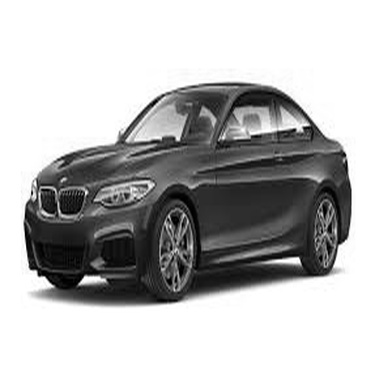car: (12, 77, 362, 288)
